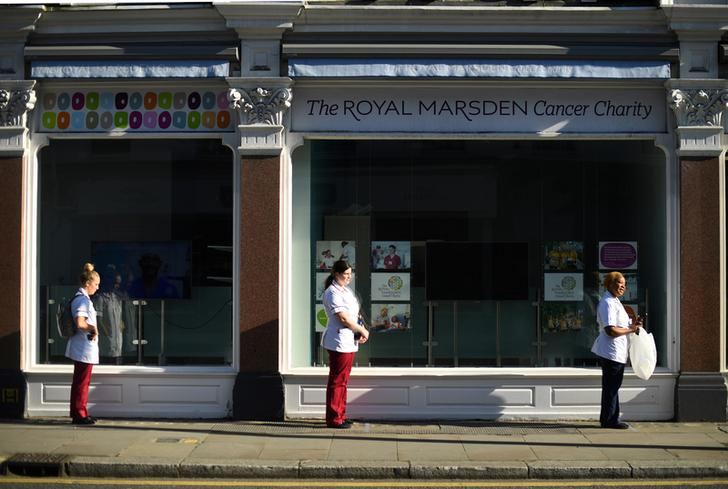Good: (319, 254, 643, 430), (61, 255, 368, 434)
